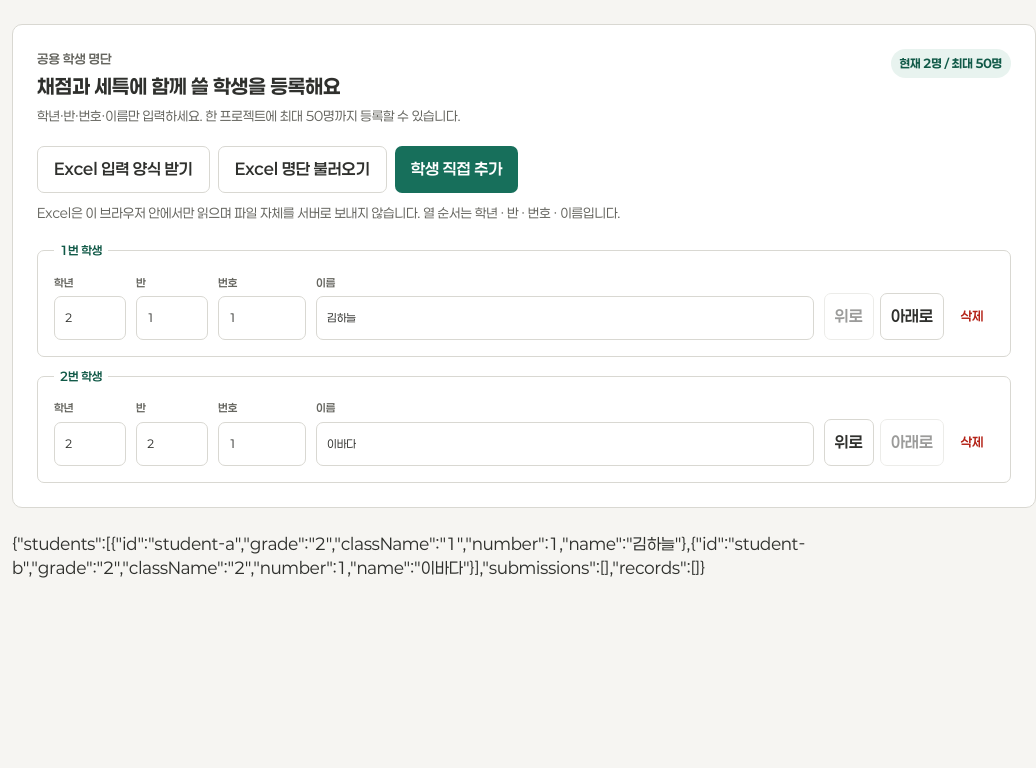
Test: Given two valid students When a direct 반 edit duplicates the academic key Then the project roster remains byte-for-byte unchanged
This screenshot has width=1036, height=768.
Clear the 2nd field labelled "반" at (172, 444), box [136, 422, 208, 466]
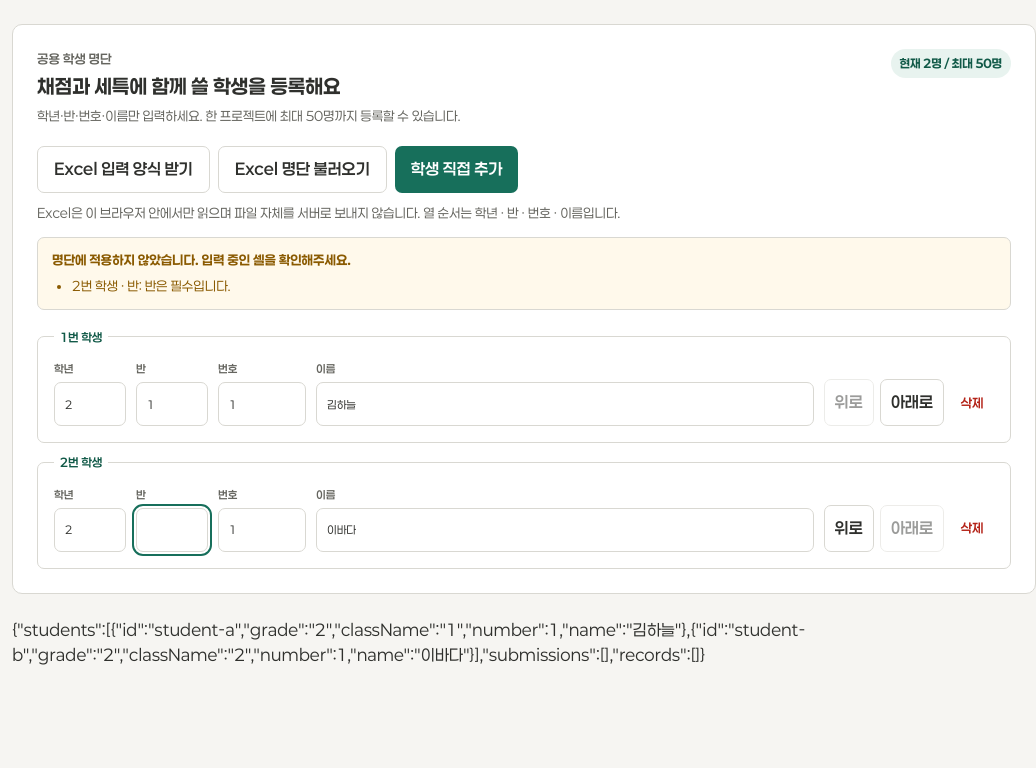
Type "1" into the 2nd field labelled "반" at (172, 530), box [136, 508, 208, 552]
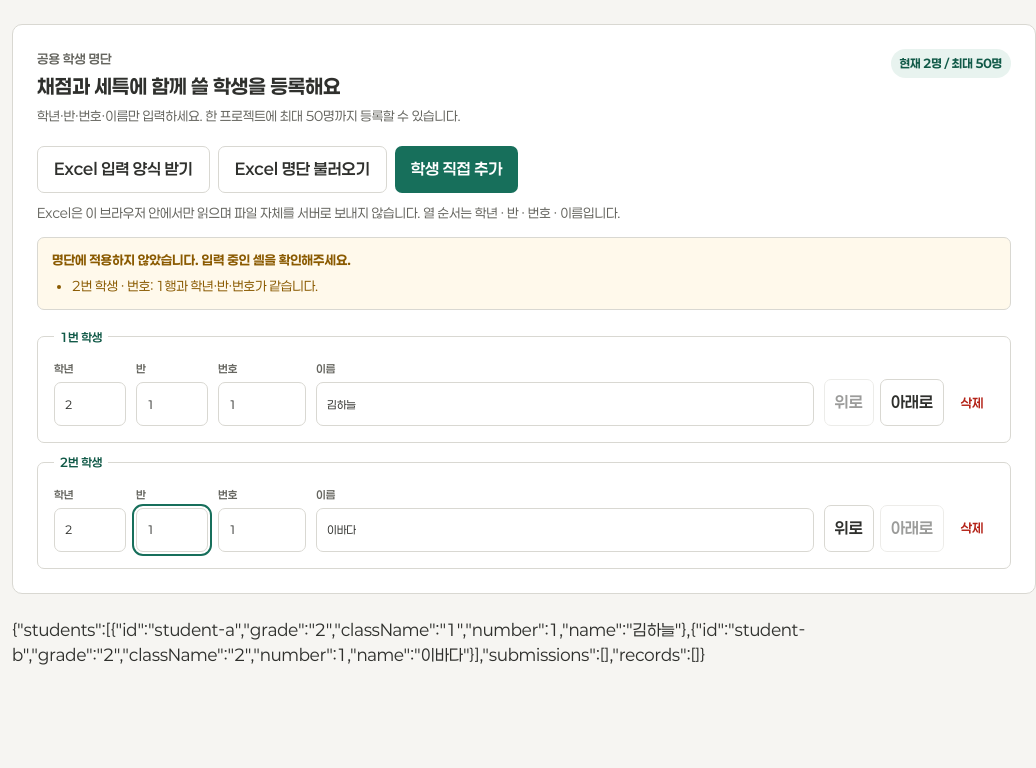
Expected: the text "명단에 적용하지 않았습니다. 입력 중인 셀을 확인해주세요." shows "2번 학생 · 번호", [37, 237, 1011, 310]
Expected: the text "명단에 적용하지 않았습니다. 입력 중인 셀을 확인해주세요." shows "1행과 학년·반·번호가 같습니다", [156, 278, 318, 294]
